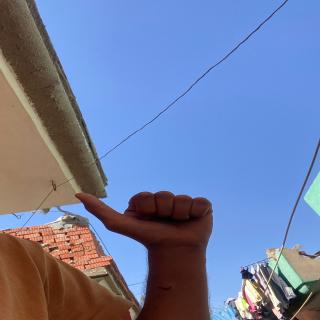DAD: (68, 178, 222, 244)
